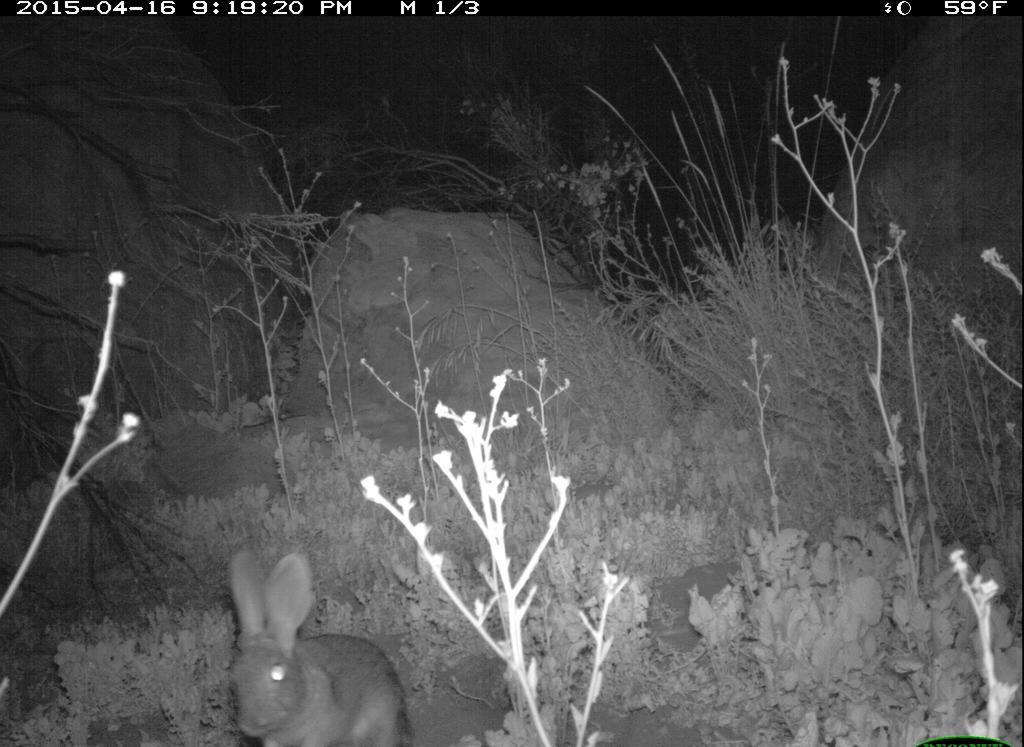rabbit: (207, 533, 406, 744)
